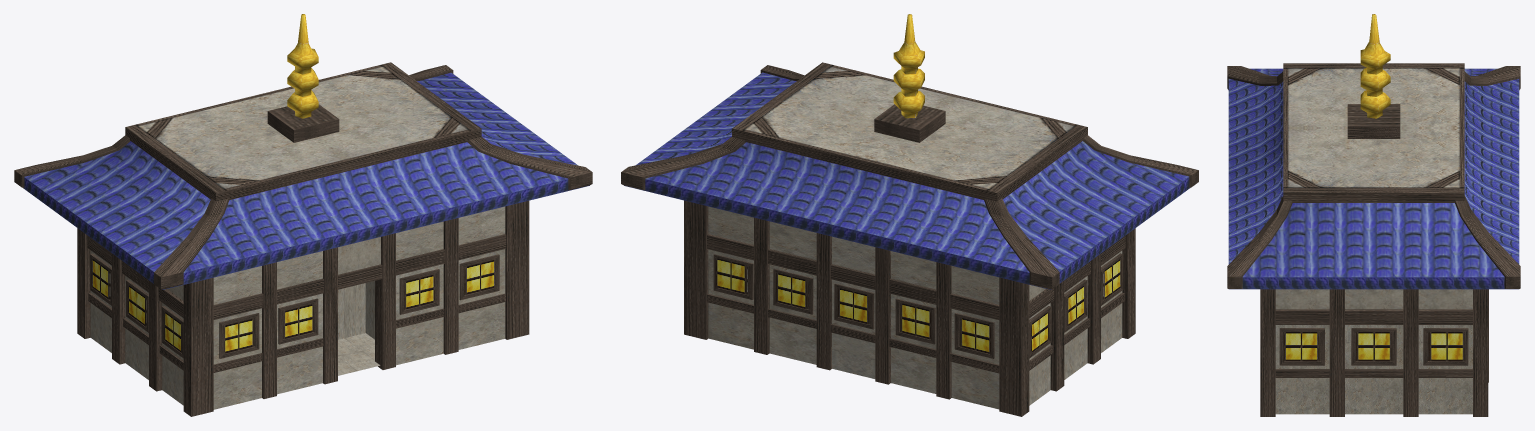
File: casa-oriental-03-b.fbx
3 views of the same model, side by side, from view 1: azimuth 30°, elevation 25°; view 2: azimuth 150°, elevation 25°; view 3: azimuth 270°, elevation 25° (orthographic).
Visible parts, largest first — view 1: Cube.000, Cube.002, Cube.001; view 2: Cube.000, Cube.002; view 3: Cube.000, Cube.002.
Part boxes in pixels (x1,y1,x2,y2): Cube.000: [14, 14, 592, 416]; Cube.002: [91, 258, 495, 353]; Cube.001: [338, 281, 380, 375]; Cube.000: [621, 14, 1198, 416]; Cube.002: [715, 258, 1121, 353]; Cube.000: [1227, 14, 1520, 416]; Cube.002: [1283, 332, 1465, 361].
Bounding box in the file's own units: 9.14 × 6.46 × 5.37.
